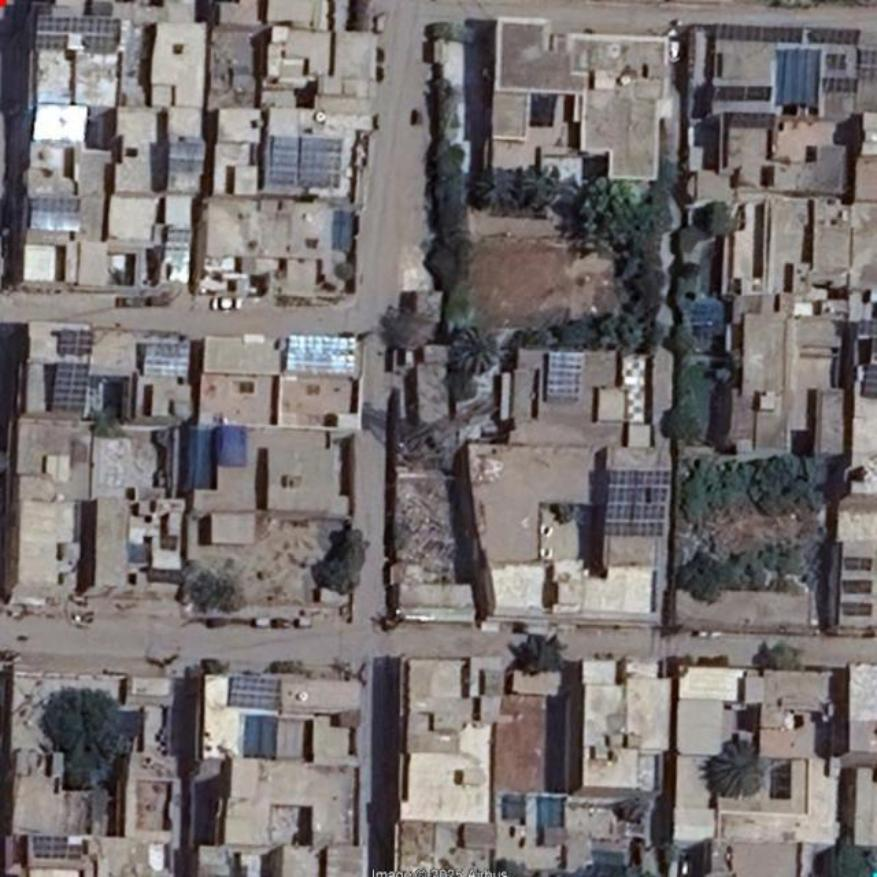Solarpanel: (603, 471, 673, 536), (269, 139, 340, 185), (285, 335, 357, 374), (36, 16, 118, 50), (34, 103, 88, 142), (141, 340, 191, 378), (547, 353, 586, 399), (51, 362, 90, 408), (228, 676, 279, 711), (32, 197, 80, 231), (721, 25, 803, 41), (33, 837, 84, 859), (172, 140, 203, 172), (166, 229, 193, 264), (718, 85, 772, 101), (55, 330, 92, 352), (818, 26, 860, 43), (826, 77, 861, 95), (841, 603, 872, 616), (844, 556, 871, 569), (844, 581, 871, 593)
